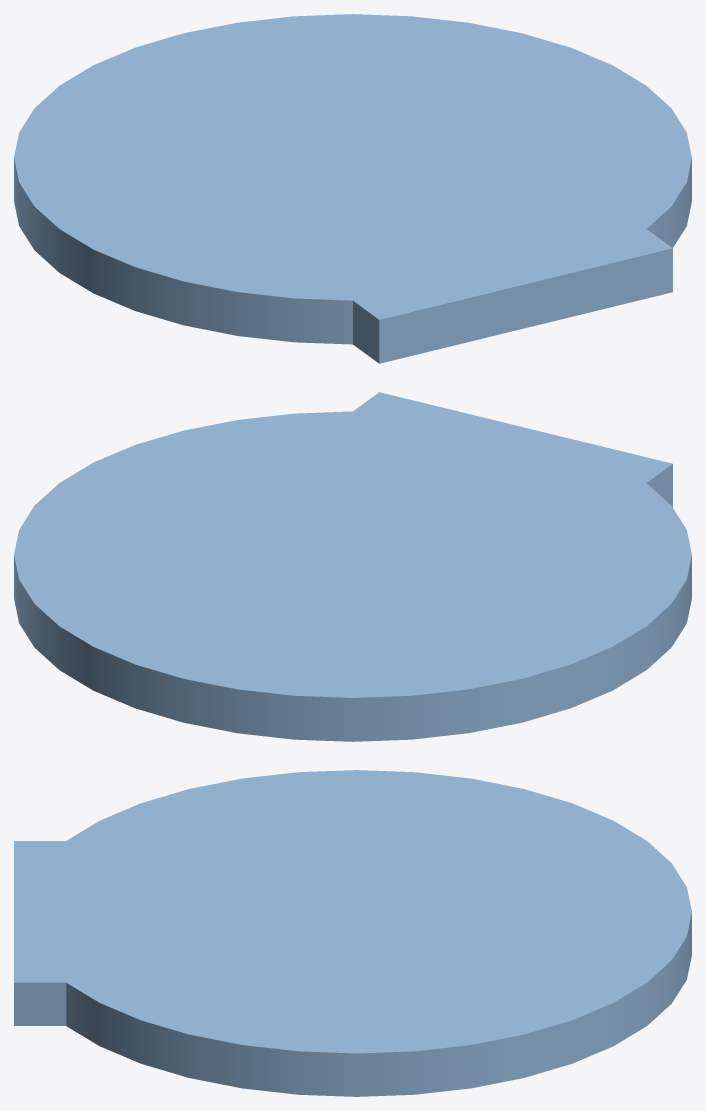
File: destination.fbx
The picture shows the model from 3 angles, top to bottom: view 1: azimuth 30°, elevation 25°; view 2: azimuth 150°, elevation 25°; view 3: azimuth 270°, elevation 25°; orthographic projection.
Parts seen in each view (by area): view 1: destination; view 2: destination; view 3: destination.
Boxes of the visible parts, <box> form: destination: <box>14,14,691,363</box>; destination: <box>14,392,691,741</box>; destination: <box>14,770,691,1096</box>.
Bounding box in the file's own units: 700 × 50 × 708.
